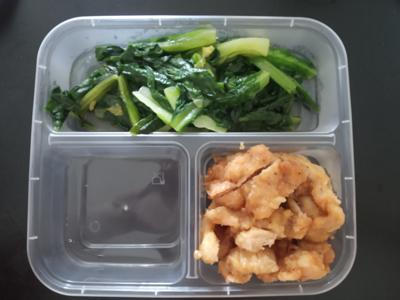ymc: (51, 30, 337, 142)
